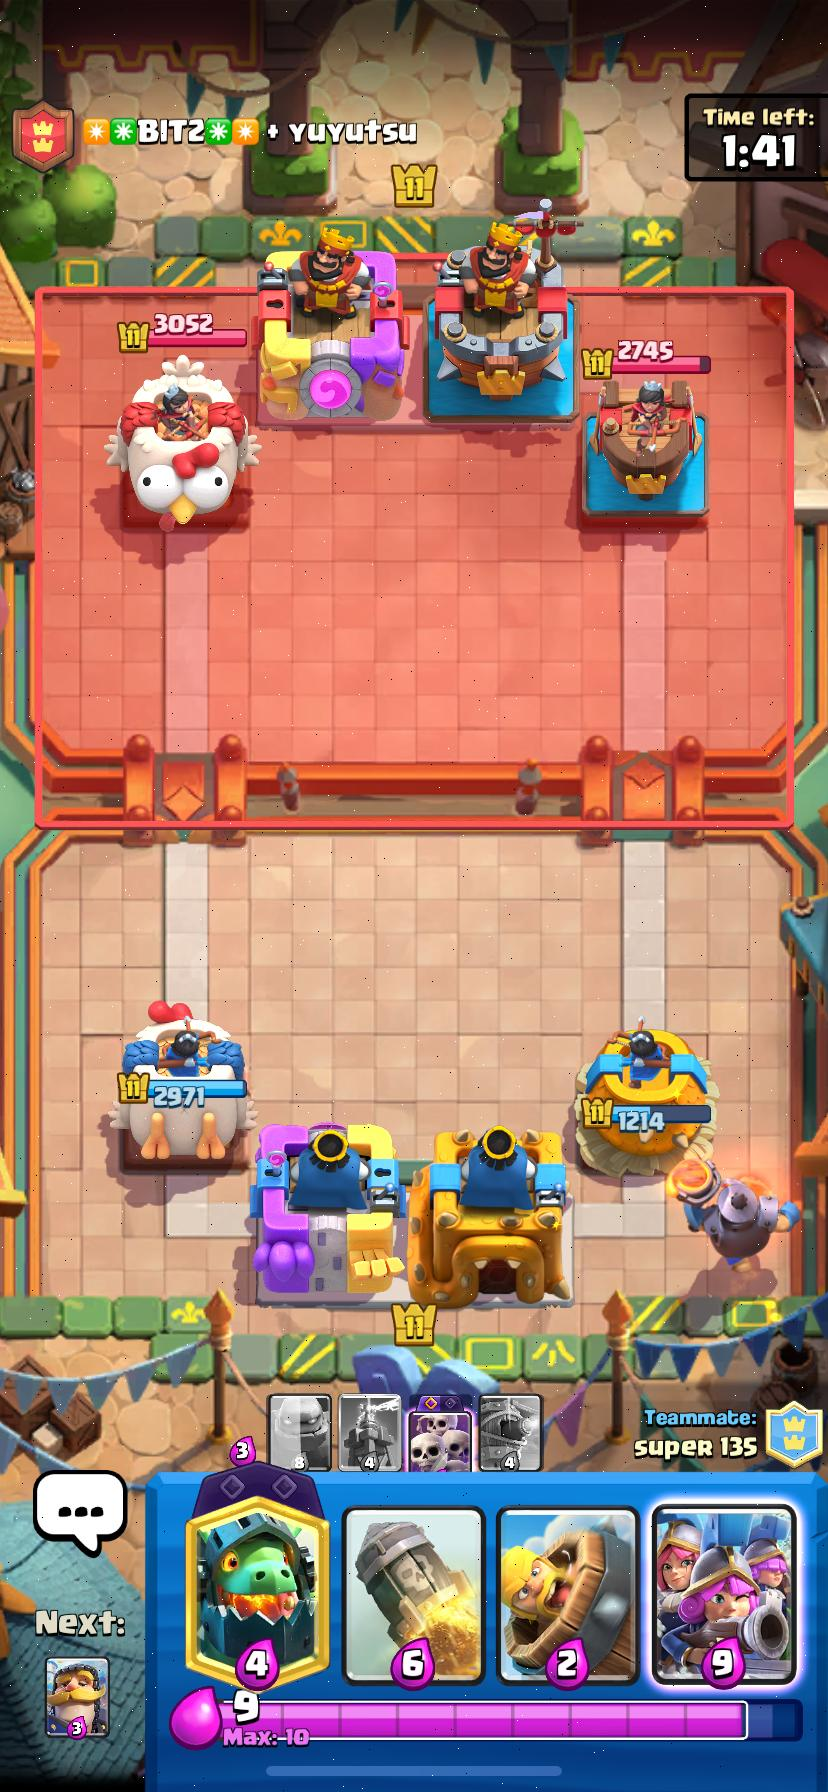EKingTower: (423, 203, 576, 421), (258, 240, 403, 419)
EnemyPrincessTower: (105, 355, 258, 528), (586, 378, 706, 515)
OFurnace: (667, 1159, 801, 1266)
OwnKingTower: (408, 1126, 571, 1306), (250, 1123, 403, 1303)
OwnPrincessTower: (109, 1001, 255, 1160), (576, 1018, 717, 1175)
